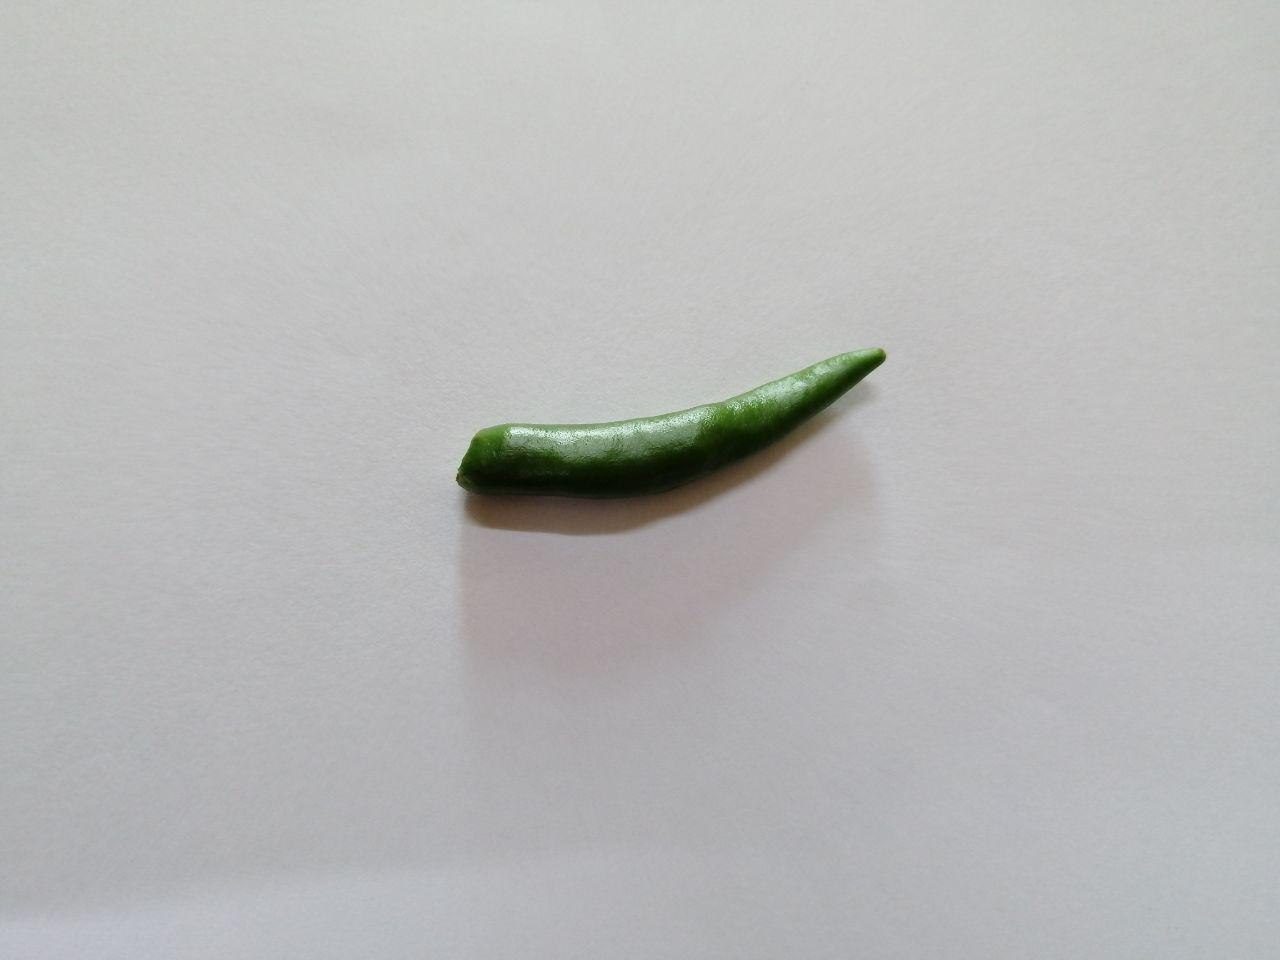lada hijau: (435, 334, 908, 553)
